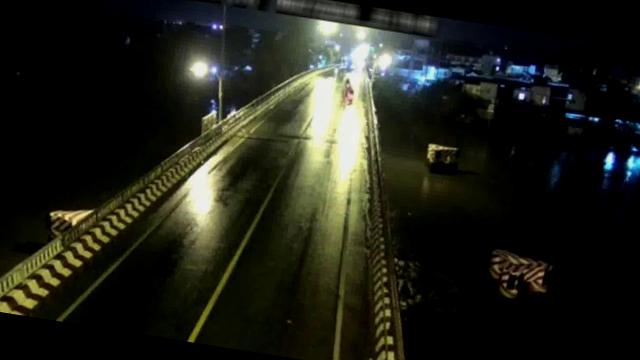Bike: (342, 76, 356, 99), (345, 88, 356, 103)
